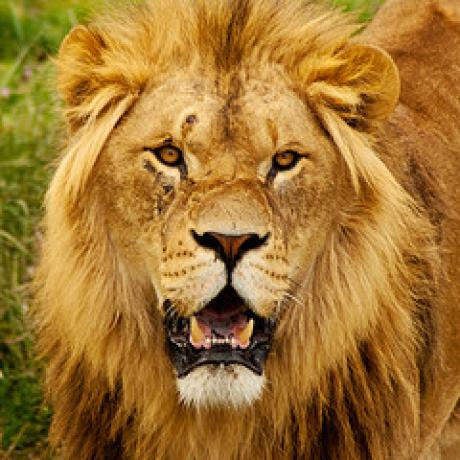Lion: (33, 0, 460, 460)
